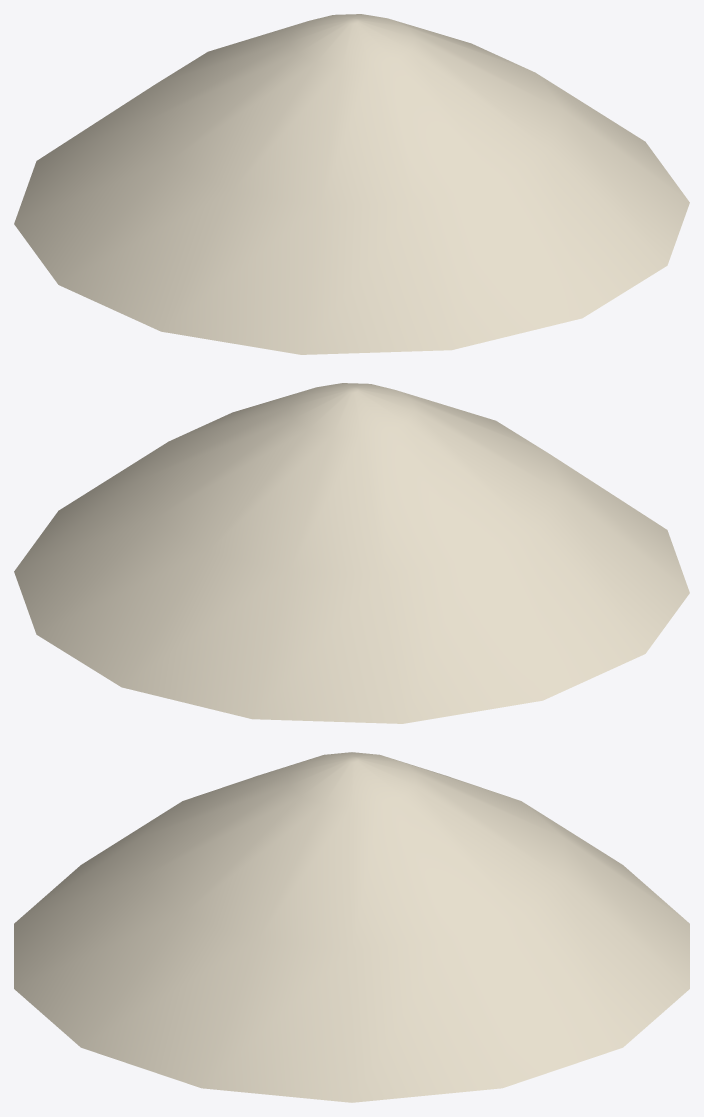
Rendered from plant.store.sand.glb.
The picture shows the model from 3 angles, top to bottom: view 1: azimuth 30°, elevation 25°; view 2: azimuth 150°, elevation 25°; view 3: azimuth 270°, elevation 25°; orthographic projection. The views are drawn at different scales.
Visible parts, largest first — view 1: main__render; view 2: main__render; view 3: main__render.
Part boxes in pixels (bbox=[...]): main__render: bbox=[14, 14, 689, 354]; main__render: bbox=[14, 383, 689, 723]; main__render: bbox=[14, 752, 689, 1102].
Size of the model in its own units: 3.2 by 1 by 3.12.
